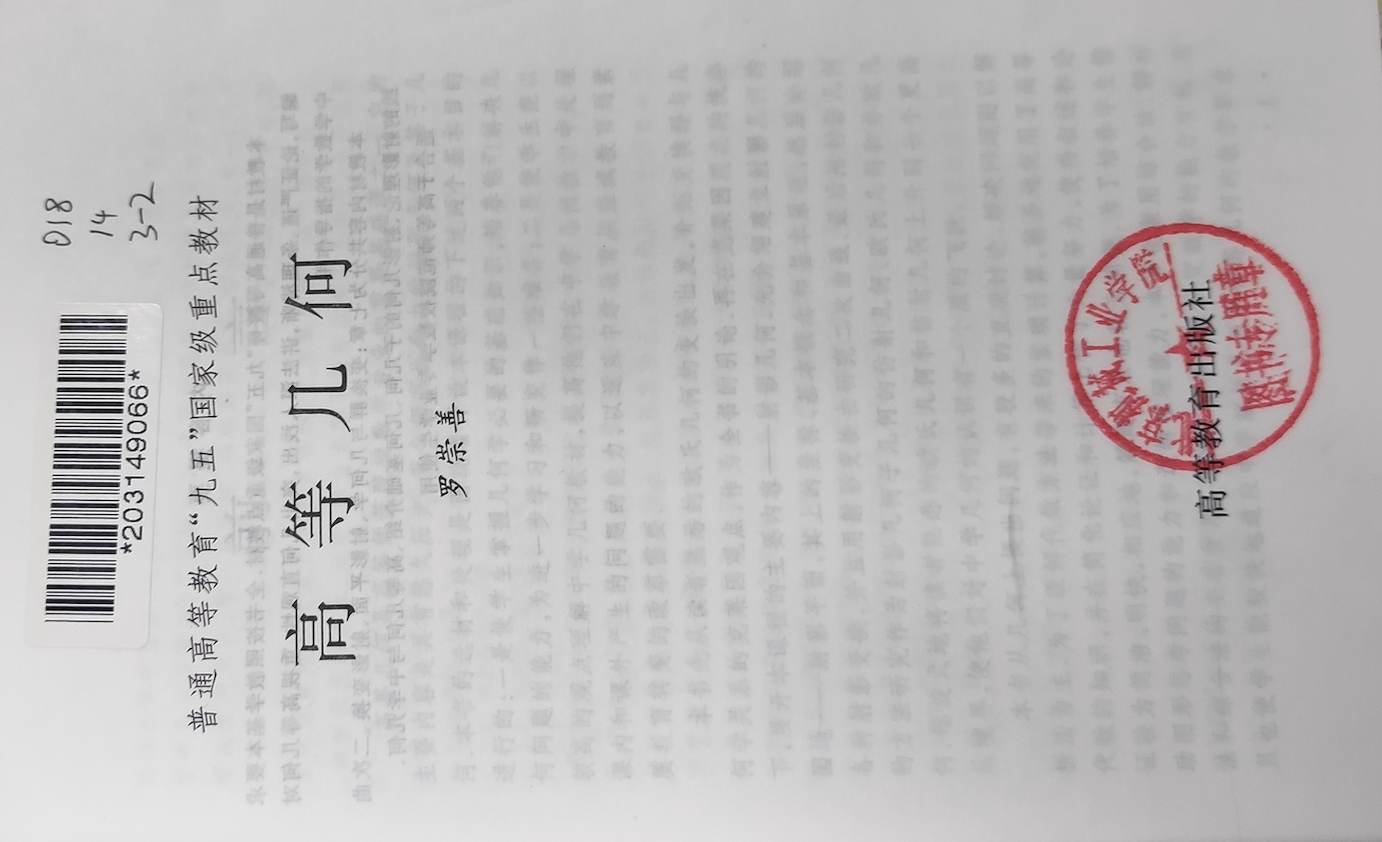Text_area: (15, 169, 494, 736), (1039, 169, 1382, 547)
